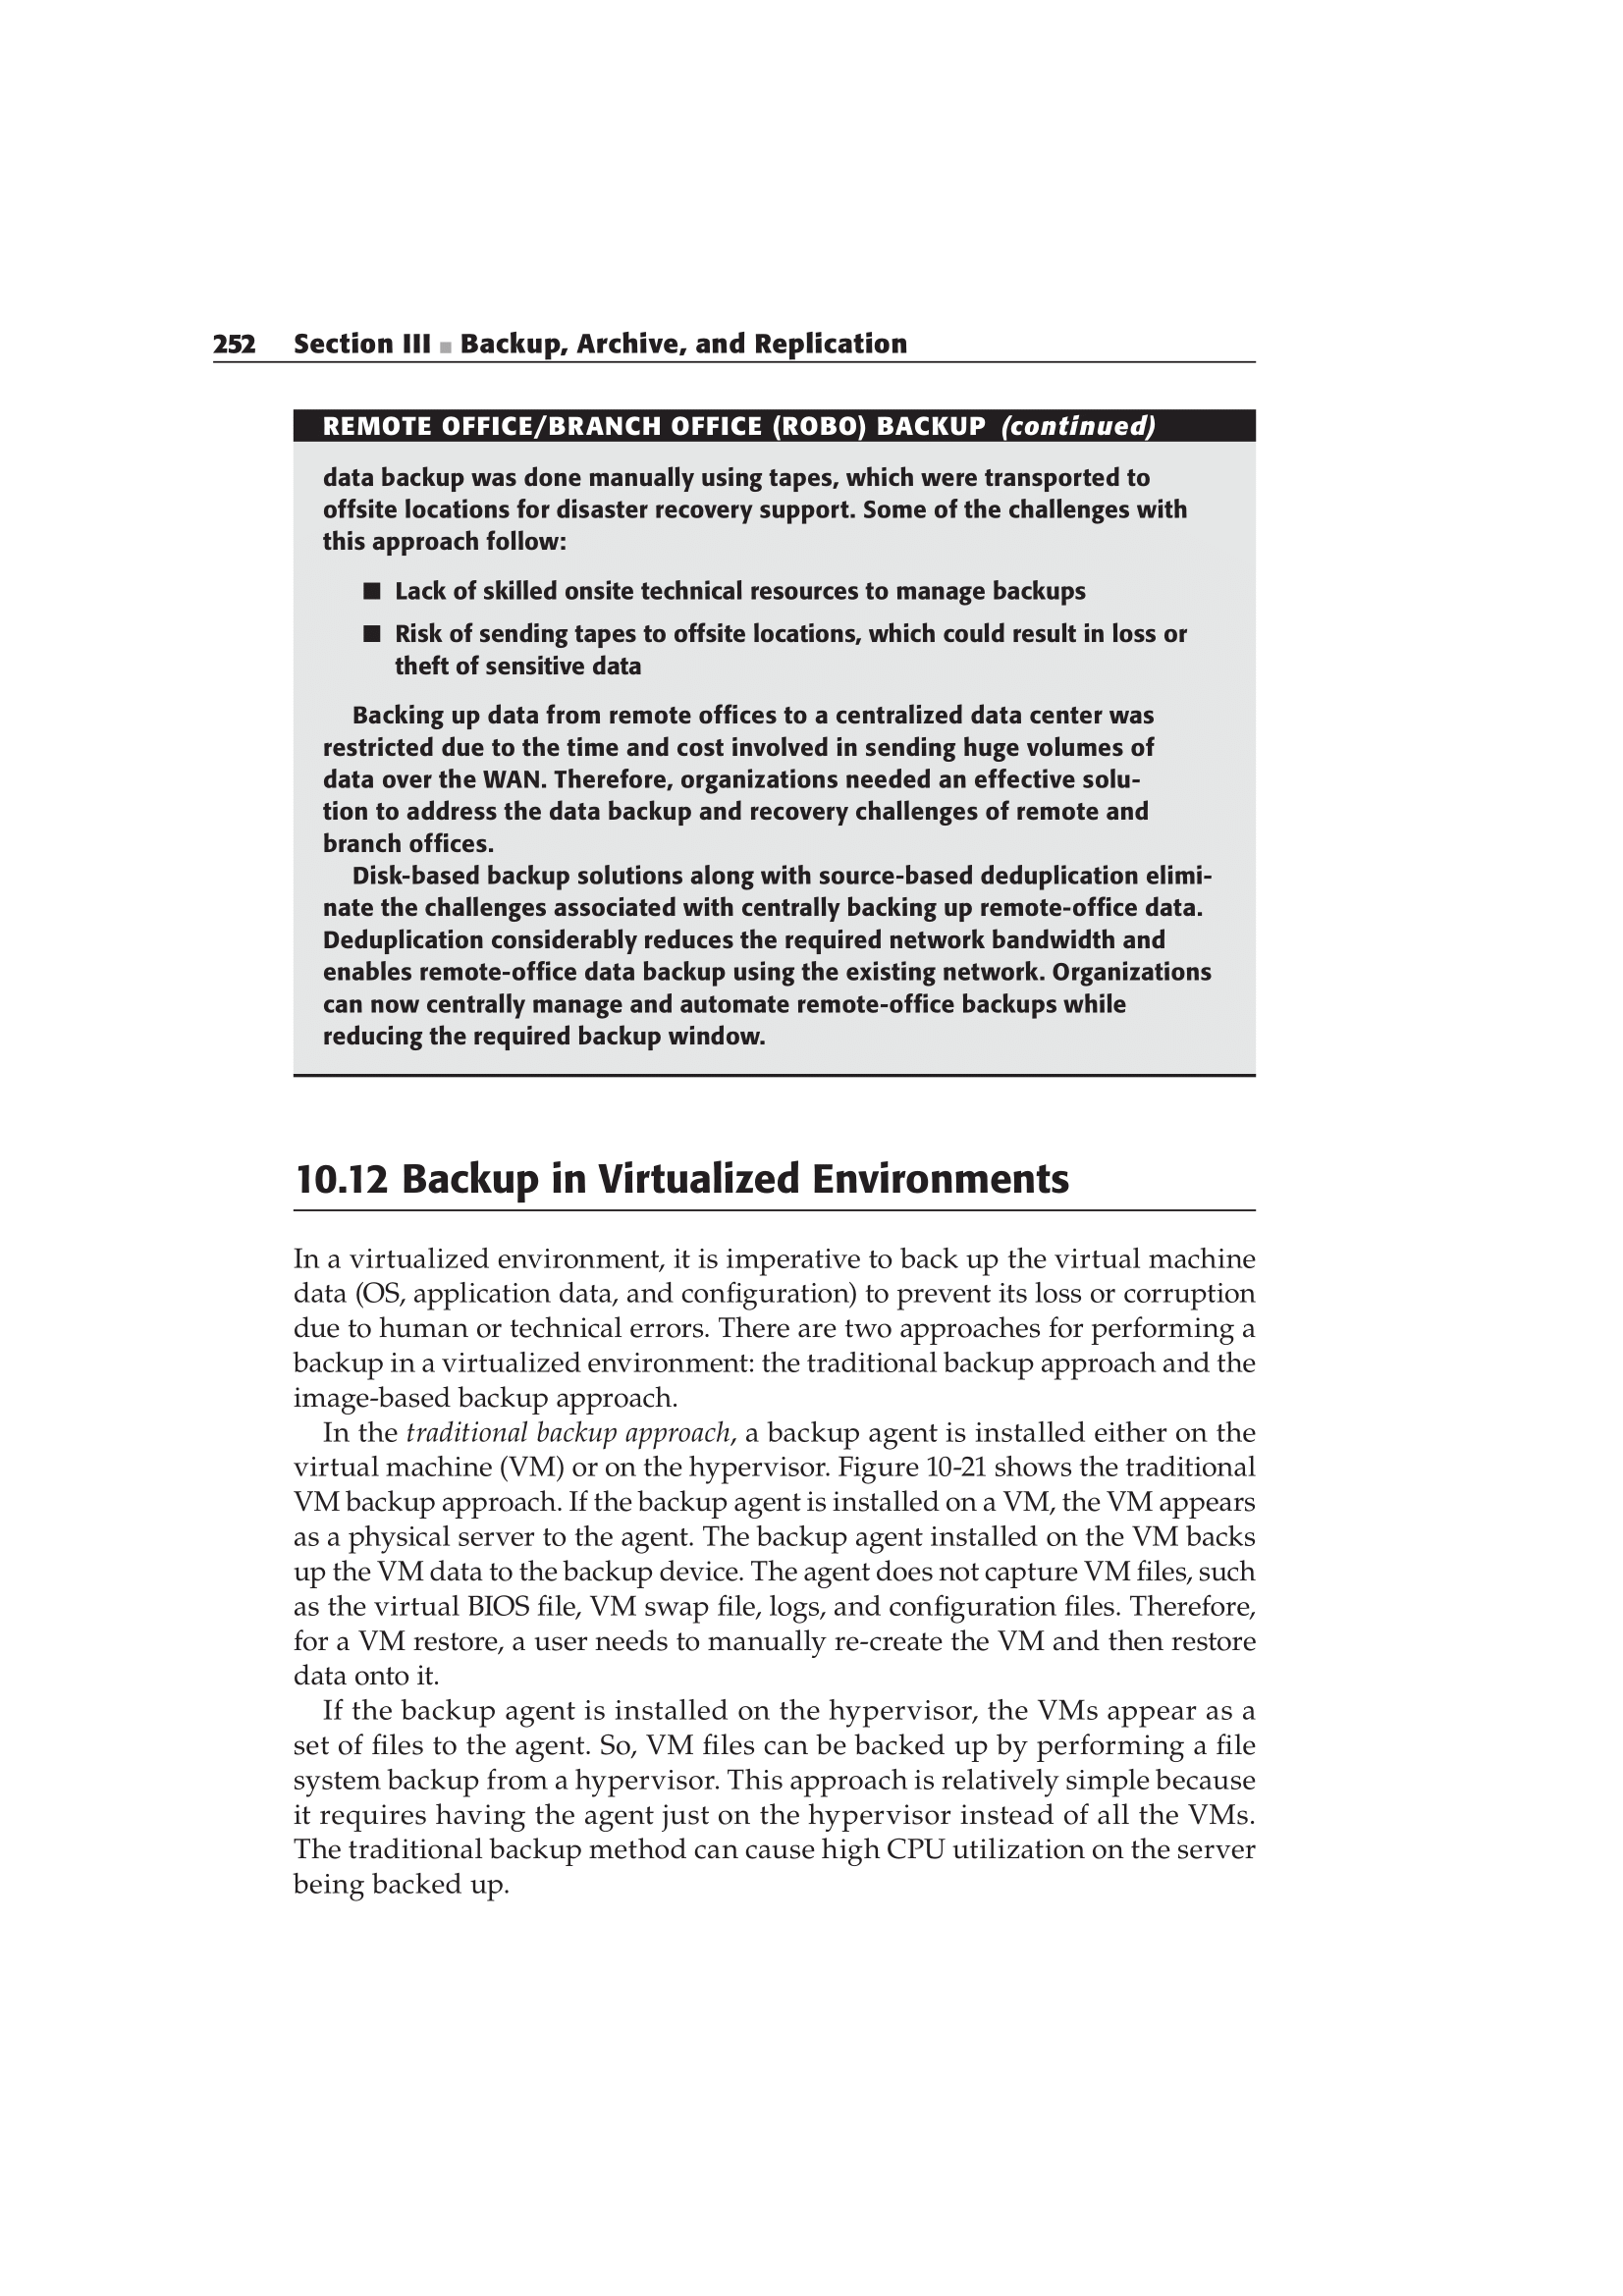Paragraph: (260, 1692, 1291, 1961), (142, 1223, 1400, 1408), (285, 855, 1321, 1076), (297, 674, 1228, 851), (269, 456, 1261, 562), (163, 1123, 1173, 1211), (160, 381, 1312, 456), (139, 281, 1013, 372)
